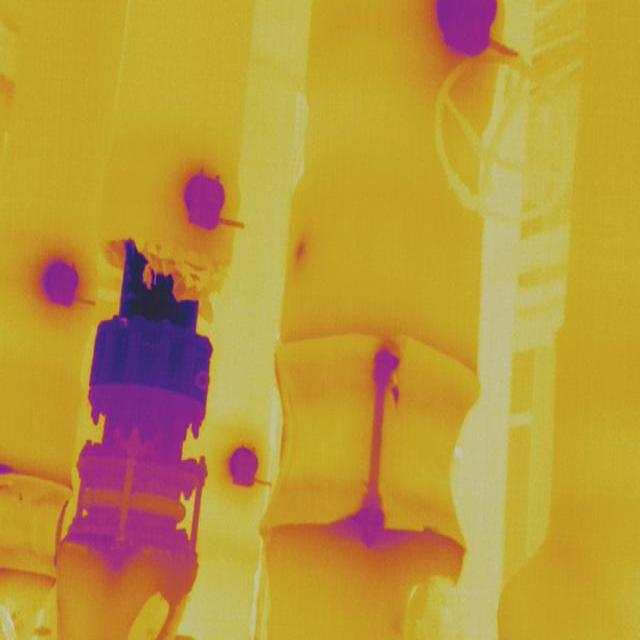leakage: (291, 232, 314, 268)
